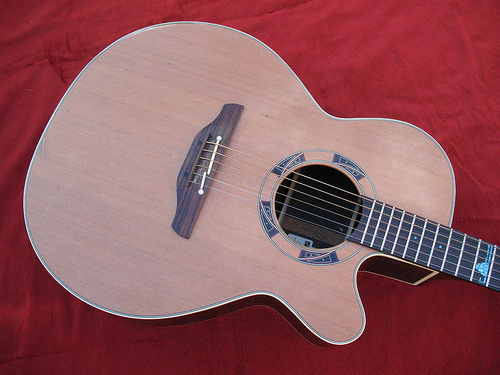guitar: (21, 20, 500, 351)
